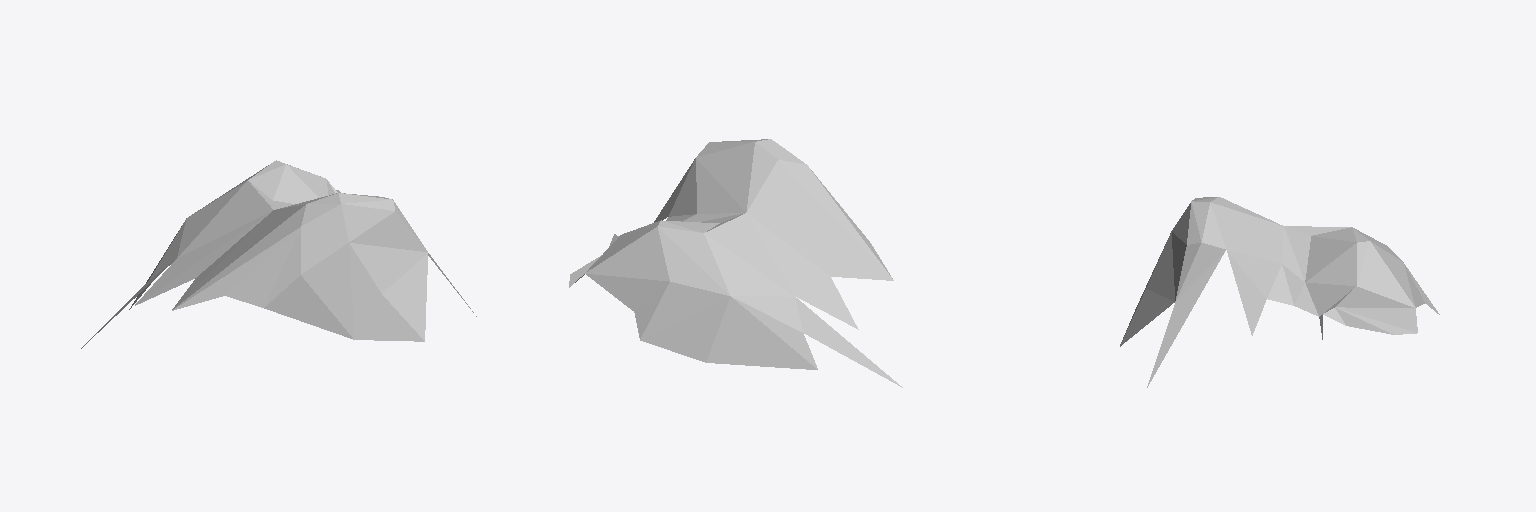
The model's file is FemorePezzoAlto.obj.
3 renders of one model, left to right at view 1: azimuth 30°, elevation 25°; view 2: azimuth 150°, elevation 25°; view 3: azimuth 270°, elevation 25°, orthographic.
Parts seen in each view (by area): view 1: GambaSingolaFemore.000_GambaSingolaFemore.003; view 2: GambaSingolaFemore.000_GambaSingolaFemore.003; view 3: GambaSingolaFemore.000_GambaSingolaFemore.003.
Boxes of the visible parts, <box> form: GambaSingolaFemore.000_GambaSingolaFemore.003: <box>81,160,476,348</box>; GambaSingolaFemore.000_GambaSingolaFemore.003: <box>569,139,902,387</box>; GambaSingolaFemore.000_GambaSingolaFemore.003: <box>1120,197,1439,387</box>.
Bounding box in the file's own units: 38.63 × 17.94 × 33.94.